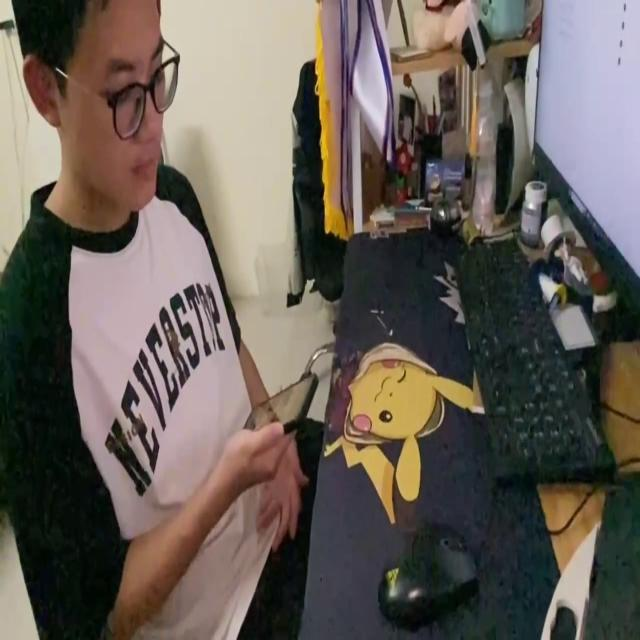laptop: (532, 0, 640, 316)
phone: (242, 376, 318, 431)
student: (0, 0, 316, 640)
